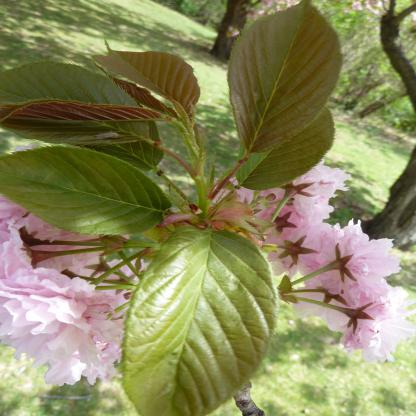Cherry leaf: (125, 222, 283, 416), (225, 2, 353, 168), (0, 144, 171, 233), (0, 58, 158, 142), (84, 40, 214, 131)
